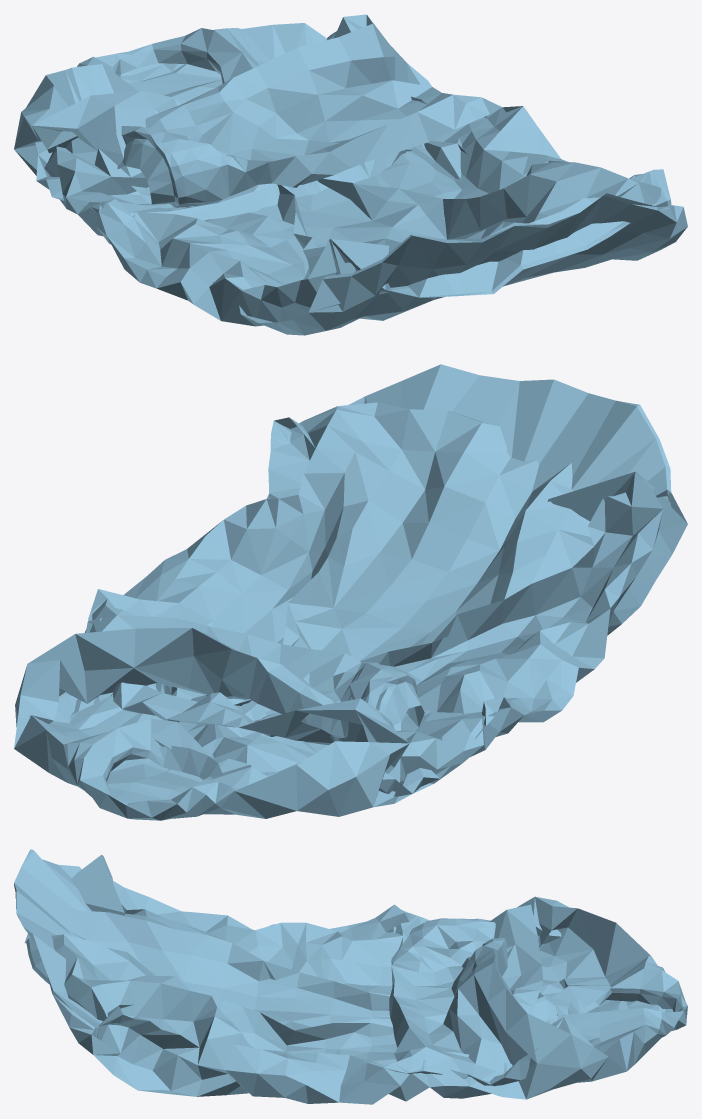
The model's file is frame_02.glb.
The picture shows the model from 3 angles, top to bottom: view 1: azimuth 30°, elevation 25°; view 2: azimuth 150°, elevation 25°; view 3: azimuth 270°, elevation 25°; orthographic projection. The views are drawn at different scales.
Visible parts, largest first — view 1: frame_02.obj; view 2: frame_02.obj; view 3: frame_02.obj.
Part boxes in pixels (box(x1,y1,x2,y2)): frame_02.obj: box(14, 14, 687, 335); frame_02.obj: box(14, 364, 687, 820); frame_02.obj: box(14, 849, 687, 1104).
Bounding box in the file's own units: 1.06 × 0.4014 × 1.72.
